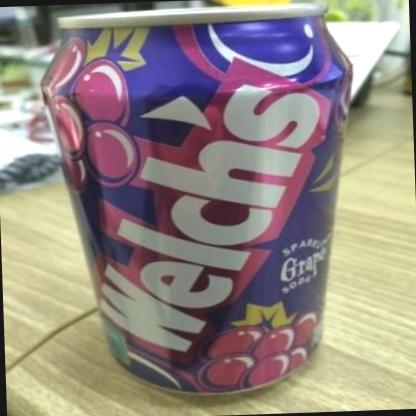alumunium_can: (48, 10, 360, 402)
